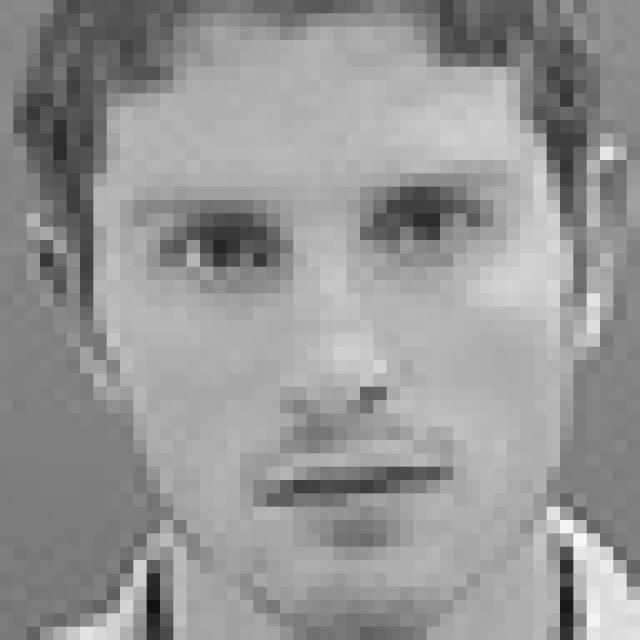neutral: (130, 156, 531, 544)
